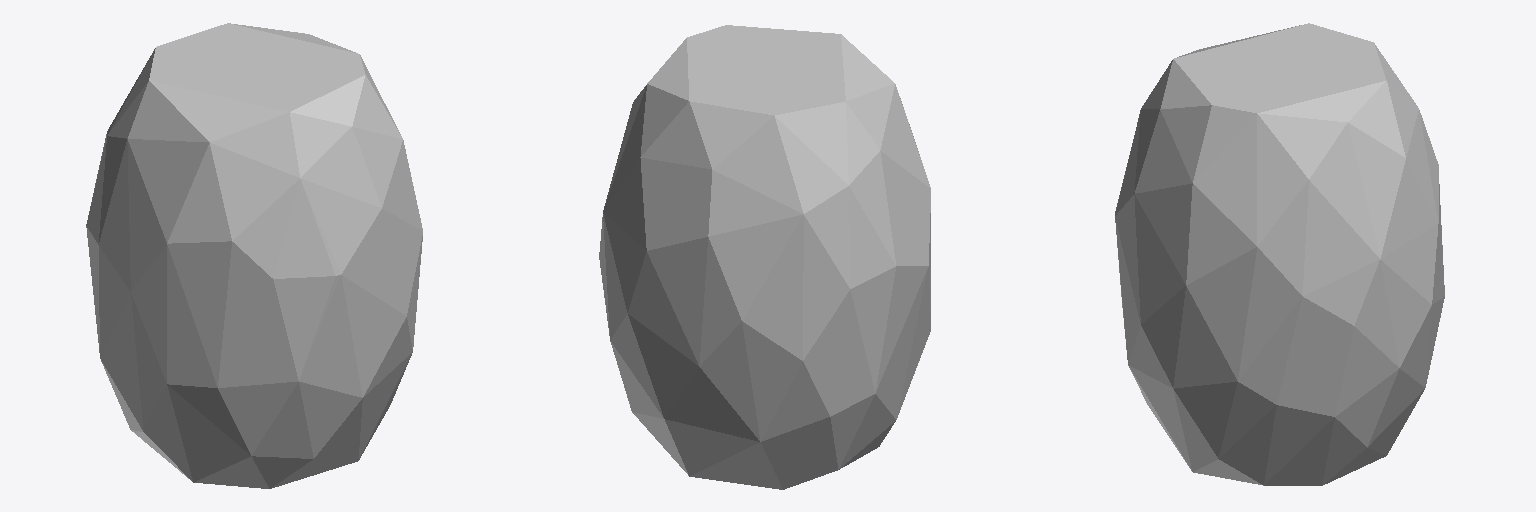
Rendered from Barrell.obj.
3 renders of one model, left to right at view 1: azimuth 30°, elevation 25°; view 2: azimuth 150°, elevation 25°; view 3: azimuth 270°, elevation 25°, orthographic.
Parts seen in each view (by area): view 1: convex_0; view 2: convex_0; view 3: convex_0.
Part boxes in pixels (left/top/right/bottom): convex_0: left=86, top=23, right=422, bottom=488; convex_0: left=599, top=25, right=930, bottom=489; convex_0: left=1115, top=23, right=1444, bottom=485.
Size of the model in its own units: 30.84 by 38.7 by 30.84.